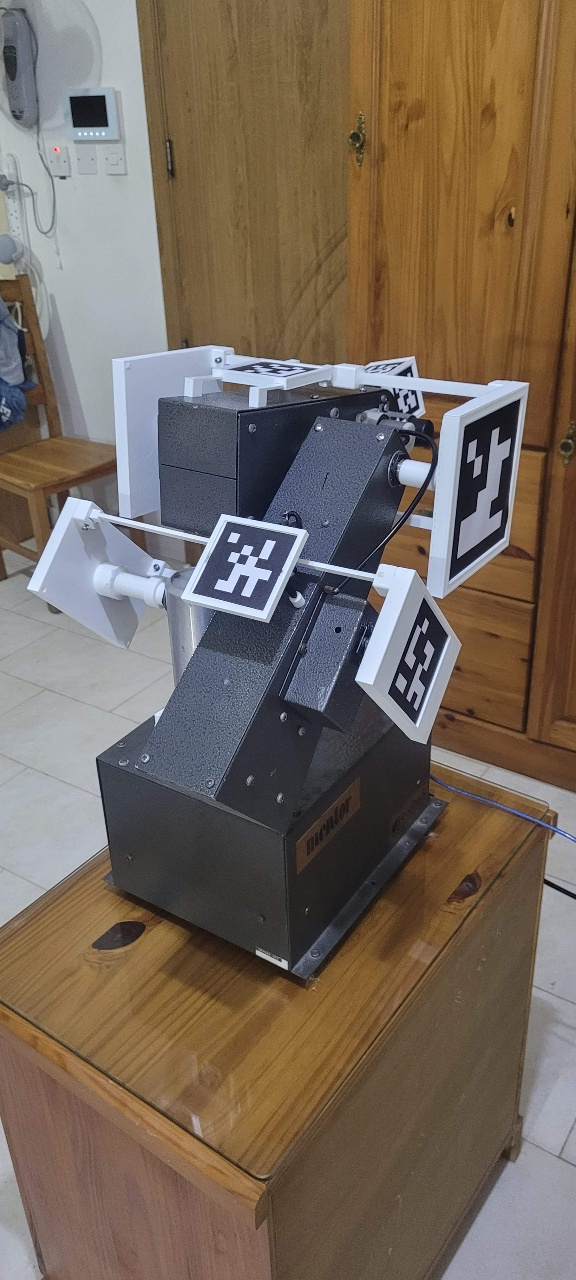Robot: (25, 343, 532, 836)
